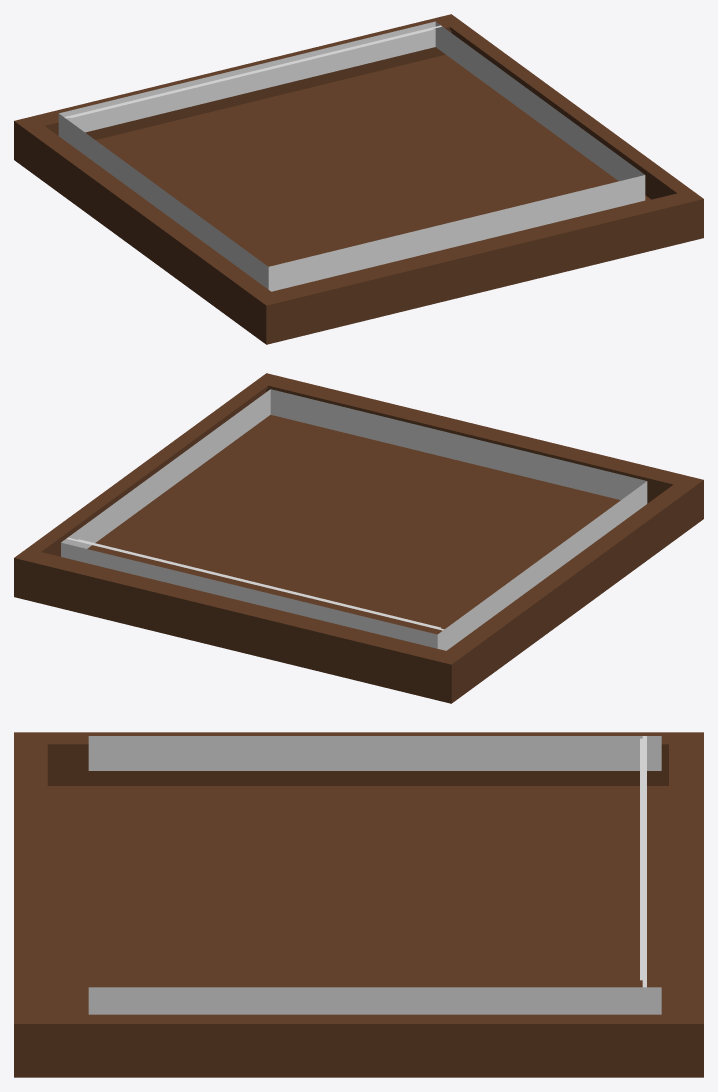
File: Board Base 2.fbx
The picture shows the model from 3 angles, top to bottom: view 1: azimuth 30°, elevation 25°; view 2: azimuth 150°, elevation 25°; view 3: azimuth 270°, elevation 25°; orthographic projection. The views are drawn at different scales.
Visible parts, largest first — view 1: board002, Box5713; view 2: board002, Box5713; view 3: board002, Box5713.
Boxes of the visible parts, box(x1,y1,x2,y2) form: board002: box(14, 14, 703, 344); Box5713: box(58, 21, 645, 291); board002: box(14, 373, 703, 703); Box5713: box(61, 389, 647, 650); board002: box(14, 732, 703, 1077); Box5713: box(88, 736, 661, 1014).
Bounding box in the file's own units: 30.62 × 3.4 × 30.61.
